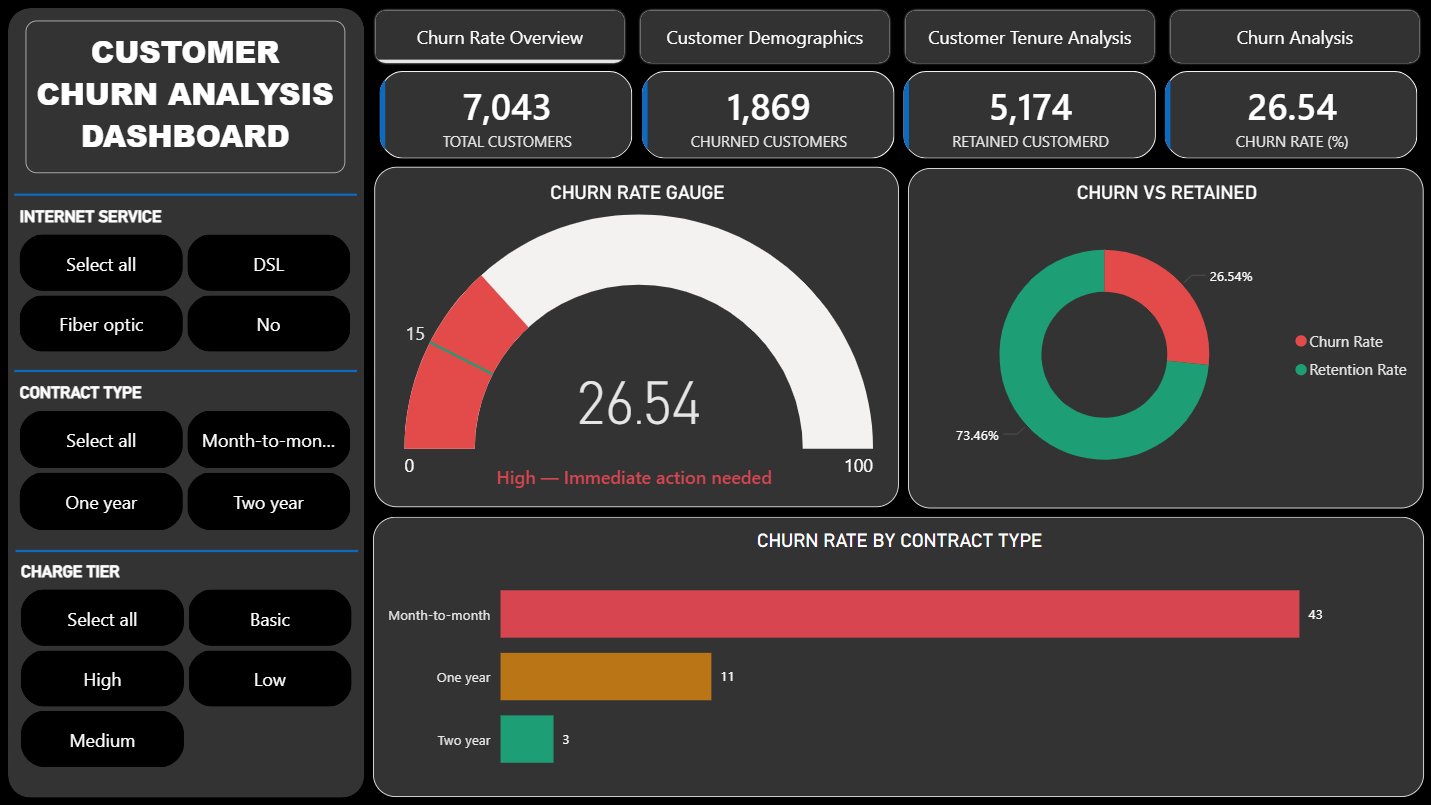

The page's visual inventory and layout, read from the dashboard file:
{"tool":"powerbi","page":{"name":"Churn Rate Overview","canvas":[1280,720],"ordinal":0},"visuals":[{"type":"pageNavigator","box":[334.2,8.4,936.2,51.9],"z":0},{"type":"shape","box":[8.4,8.4,317.3,703.4],"z":1000},{"type":"textbox","box":[24.1,20.5,284.7,136.3],"z":7000},{"type":"shape","box":[14.5,148.4,305.2,54.3],"z":8000},{"type":"cardVisual","fields":{"Data":["TelcoCustomerData.Formatted Total Customers","TelcoCustomerData.Formatted Churned Customers","TelcoCustomerData.Formatted Retained Customers","TelcoCustomerData.Churn_Rate"]},"box":[334.7,59.9,936.6,88.7],"z":9000},{"type":"gauge","title":"CHURN RATE GAUGE","fields":{"Y":["TelcoCustomerData.Churn_Rate"],"MinValue":["TelcoCustomerData.Gauge Min"],"MaxValue":["TelcoCustomerData.Gauge Max"],"TargetValue":["TelcoCustomerData.Churn Rate Target"]},"box":[334.7,149.9,467,303.5],"z":10000},{"type":"donutChart","title":"CHURN VS RETAINED","fields":{"Y":["TelcoCustomerData.Churn_Rate","TelcoCustomerData.Retention_Rate"]},"box":[810.5,151.1,459.6,303.5],"z":11000},{"type":"clusteredBarChart","title":"CHURN RATE BY CONTRACT TYPE","fields":{"Category":["TelcoCustomerData.Contract"],"Y":["TelcoCustomerData.Churn_Rate"]},"box":[334.2,462.1,936.2,249.7],"z":12000},{"type":"cardVisual","fields":{"Data":["TelcoCustomerData.Churn Status Label"]},"box":[410.2,405.4,314.9,38.6],"z":14000},{"type":"advancedSlicerVisual","title":"INTERNET SERVICE","fields":{"Values":["TelcoCustomerData.InternetService"]},"box":[14.5,185.8,305.2,135.1],"z":14001},{"type":"advancedSlicerVisual","title":"CONTRACT TYPE","fields":{"Values":["TelcoCustomerData.Contract"]},"box":[14.5,342.6,305.2,136.3],"z":14002},{"type":"advancedSlicerVisual","title":"CHARGE TIER","fields":{"Values":["TelcoCustomerData.MonthlyChargeTier"]},"box":[15.7,501.9,305.2,189.4],"z":14003},{"type":"shape","box":[14.5,305.2,305.2,54.3],"z":14004},{"type":"shape","box":[15.7,465.7,305.2,54.3],"z":14005}]}

Visuals, with their boxes in screenshot pixels (x1, y1, x2, y2), scaled from the page's 1280x720 canvas onto the 1431x805 screenshot:
pageNavigator: (x1=374, y1=9, x2=1420, y2=67)
shape: (x1=9, y1=9, x2=364, y2=796)
textbox: (x1=27, y1=23, x2=345, y2=175)
shape: (x1=16, y1=166, x2=357, y2=227)
cardVisual - TelcoCustomerData.Formatted Total Customers x TelcoCustomerData.Formatted Churned Customers: (x1=374, y1=67, x2=1421, y2=166)
"CHURN RATE GAUGE" gauge: (x1=374, y1=168, x2=896, y2=507)
"CHURN VS RETAINED" donutChart: (x1=906, y1=169, x2=1420, y2=508)
"CHURN RATE BY CONTRACT TYPE" clusteredBarChart: (x1=374, y1=517, x2=1420, y2=796)
cardVisual - TelcoCustomerData.Churn Status Label: (x1=459, y1=453, x2=811, y2=496)
"INTERNET SERVICE" advancedSlicerVisual: (x1=16, y1=208, x2=357, y2=359)
"CONTRACT TYPE" advancedSlicerVisual: (x1=16, y1=383, x2=357, y2=535)
"CHARGE TIER" advancedSlicerVisual: (x1=18, y1=561, x2=359, y2=773)
shape: (x1=16, y1=341, x2=357, y2=402)
shape: (x1=18, y1=521, x2=359, y2=581)
